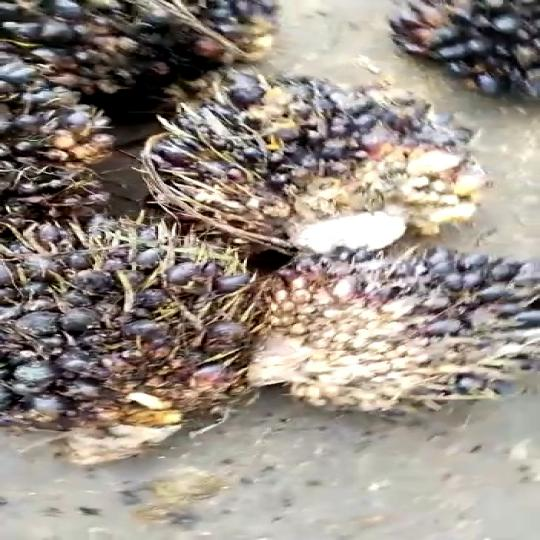mentah: (124, 65, 479, 250), (0, 226, 279, 454), (262, 242, 540, 436)
